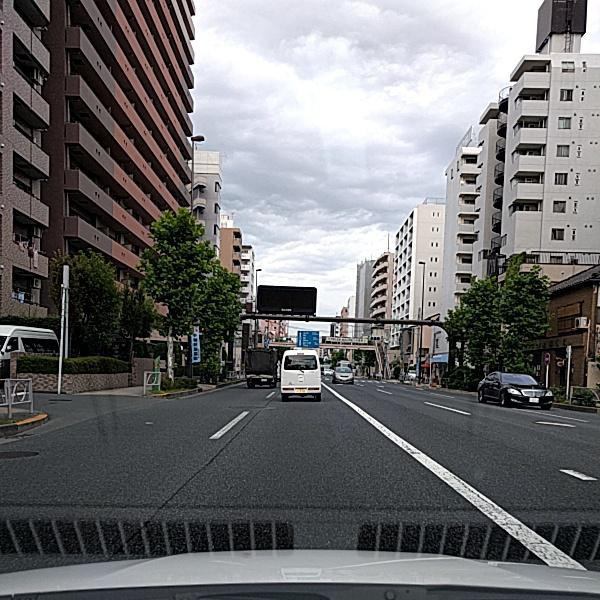D44: (358, 409, 577, 566)
